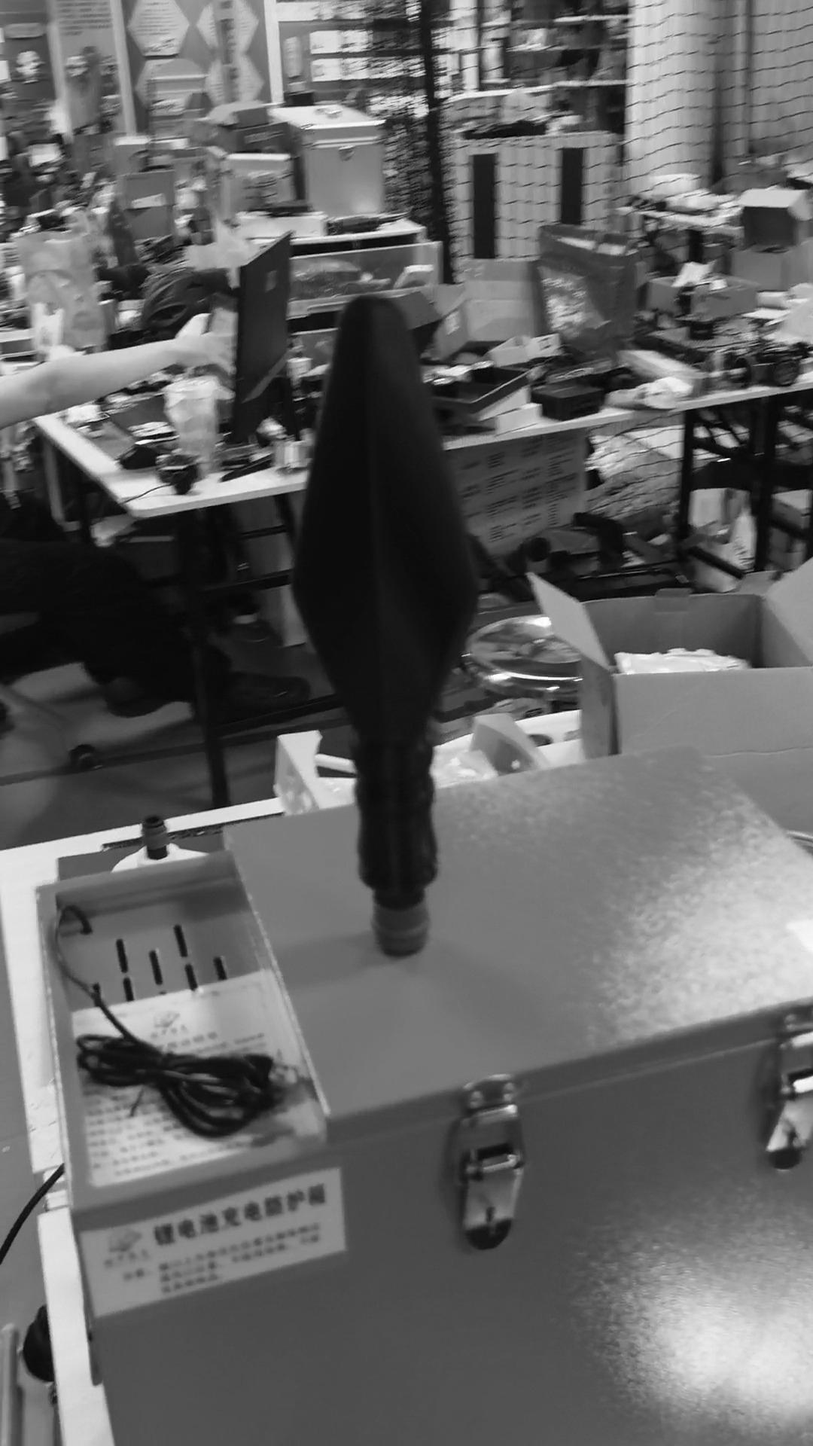base: (374, 901, 430, 956)
